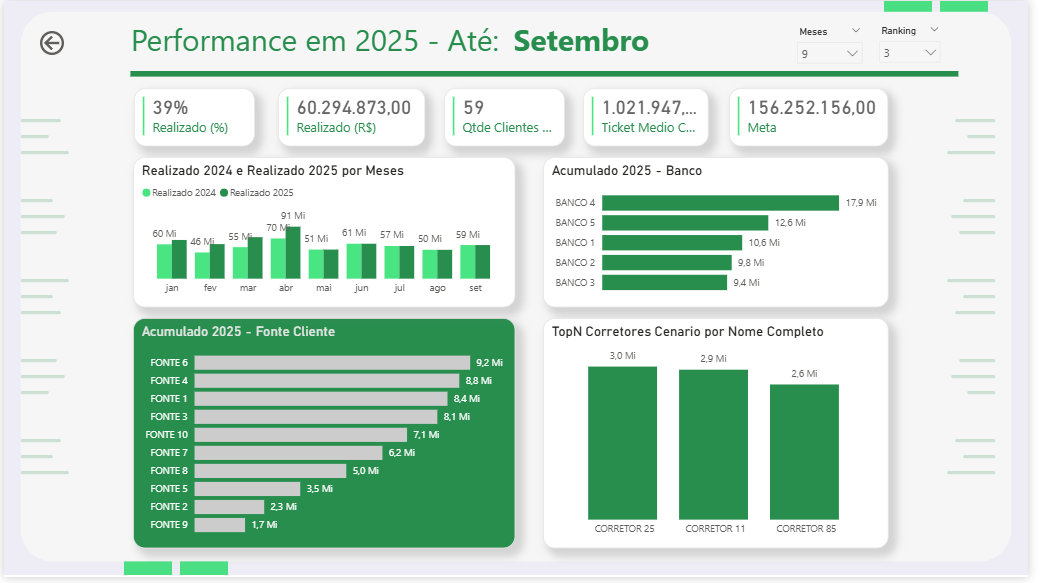

The page's visual inventory and layout, read from the dashboard file:
{"tool":"powerbi","page":{"name":"2025","canvas":[1280,720],"ordinal":1},"visuals":[{"type":"slicer","fields":{"Values":["Ranking.Ranking"]},"box":[1083.6,24.5,97.3,52.7],"z":0},{"type":"slicer","fields":{"Values":["Meses.Meses"]},"box":[981.8,26.4,101.8,52.7],"z":1000},{"type":"multiRowCard","title":"Realizado","fields":{"Values":["Medidas.Acumulado 2025"]},"box":[342.2,108.9,184.4,73.3],"z":2000},{"type":"multiRowCard","title":"Meta","fields":{"Values":["Medidas.Previsto"]},"box":[906.7,108.9,198.9,73.3],"z":3000},{"type":"multiRowCard","title":"N° de Processos","fields":{"Values":["Medidas.Qtde Clientes"]},"box":[550,108.9,151.1,73.3],"z":4000},{"type":"multiRowCard","title":"(%) Realizado","fields":{"Values":["Medidas.Acumulado(%)2025"]},"box":[162,109,151,73],"z":5000},{"type":"multiRowCard","title":"Ticket Medio","fields":{"Values":["Medidas.Ticket Medio"]},"box":[723.3,108.9,156.7,73.3],"z":6000},{"type":"clusteredBarChart","title":"Acumulado 2025 - Banco","fields":{"Y":["Medidas.Acumulado 2025"],"Category":["Banco.Banco"]},"box":[673.3,195,431.7,188.3],"z":7000},{"type":"clusteredBarChart","title":"Acumulado 2025 - Fonte Cliente","fields":{"Y":["Medidas.Acumulado 2025"],"Category":["Fonte Cliente.Fonte Cliente"]},"box":[161.7,396.7,478.3,288.3],"z":8000},{"type":"clusteredColumnChart","fields":{"Y":["Medidas.Realizado LY","Medidas.Realizado 2"],"Category":["Calendario.Month"]},"box":[161.7,195,478.3,188.3],"z":9000},{"type":"clusteredColumnChart","fields":{"Category":["Corretores.Nome Completo"],"Y":["Medidas.TopN Corretores Cenario"]},"box":[673.3,396.7,431.7,288.3],"z":10000},{"type":"textbox","box":[154.3,17.1,485.7,67.1],"z":11000},{"type":"actionButton","box":[40,32.5,100,40],"z":12000},{"type":"card","fields":{"Values":["Medidas.NomeDoMes"]},"box":[625.6,6.7,194.4,84.4],"z":13000}]}

Visuals, with their boxes in screenshot pixels (x1, y1, x2, y2), scaled from the page's 1280x720 canvas onto the 1043x583 screenshot:
slicer - Ranking.Ranking: BBox(883, 20, 962, 63)
slicer - Meses.Meses: BBox(800, 21, 883, 64)
"Realizado" multiRowCard: BBox(279, 88, 429, 148)
"Meta" multiRowCard: BBox(739, 88, 901, 148)
"N° de Processos" multiRowCard: BBox(448, 88, 571, 148)
"(%) Realizado" multiRowCard: BBox(132, 88, 255, 147)
"Ticket Medio" multiRowCard: BBox(589, 88, 717, 148)
"Acumulado 2025 - Banco" clusteredBarChart: BBox(549, 158, 900, 310)
"Acumulado 2025 - Fonte Cliente" clusteredBarChart: BBox(132, 321, 522, 555)
clusteredColumnChart - Medidas.Realizado LY x Medidas.Realizado 2: BBox(132, 158, 522, 310)
clusteredColumnChart - Corretores.Nome Completo x Medidas.TopN Corretores Cenario: BBox(549, 321, 900, 555)
textbox: BBox(126, 14, 522, 68)
actionButton: BBox(33, 26, 114, 59)
card - Medidas.NomeDoMes: BBox(510, 5, 668, 74)
